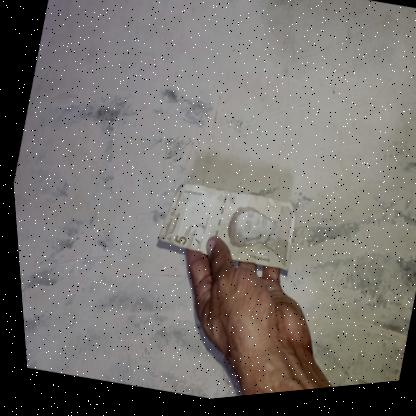five-front-vef: (147, 172, 301, 286)
